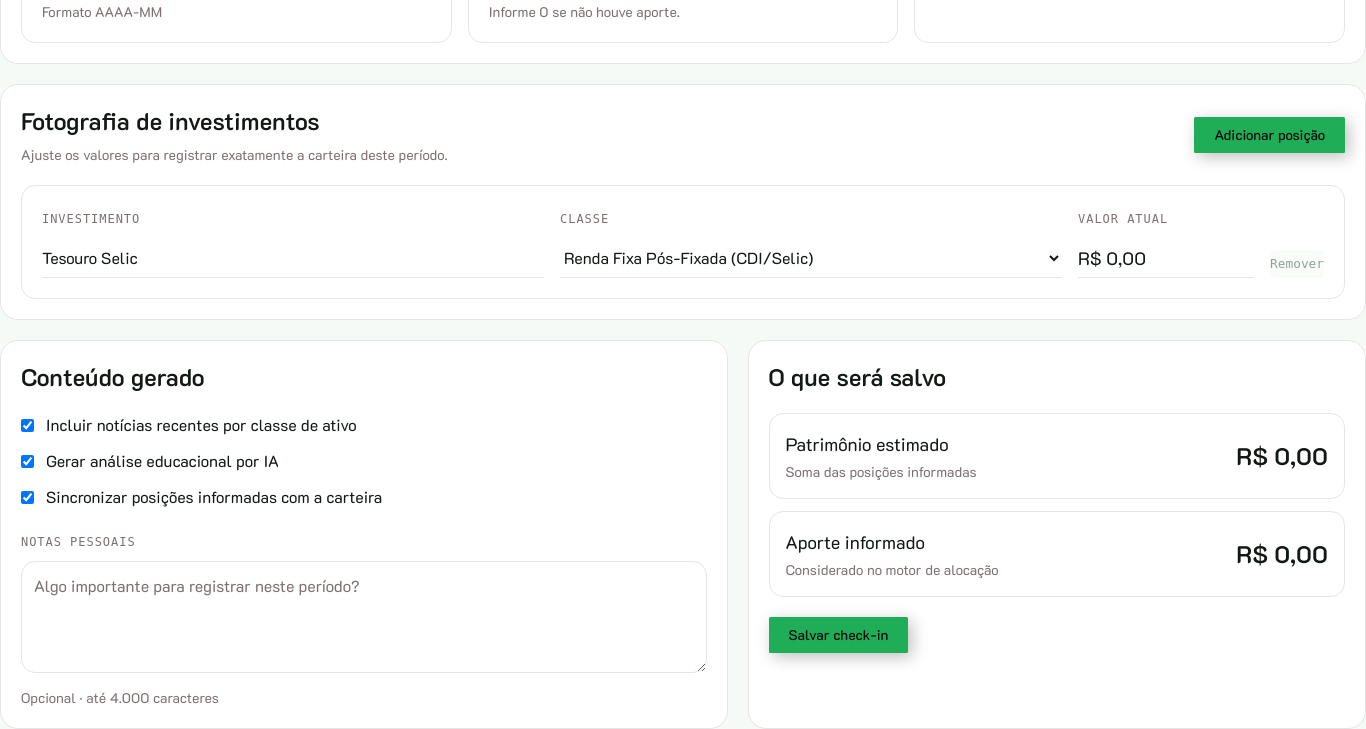
NewCheckInForm › mostra o erro que a API devolve
(page scrolled)
Click the button "Salvar check-in": (838, 635) top-left (769, 617), bottom-right (908, 653)
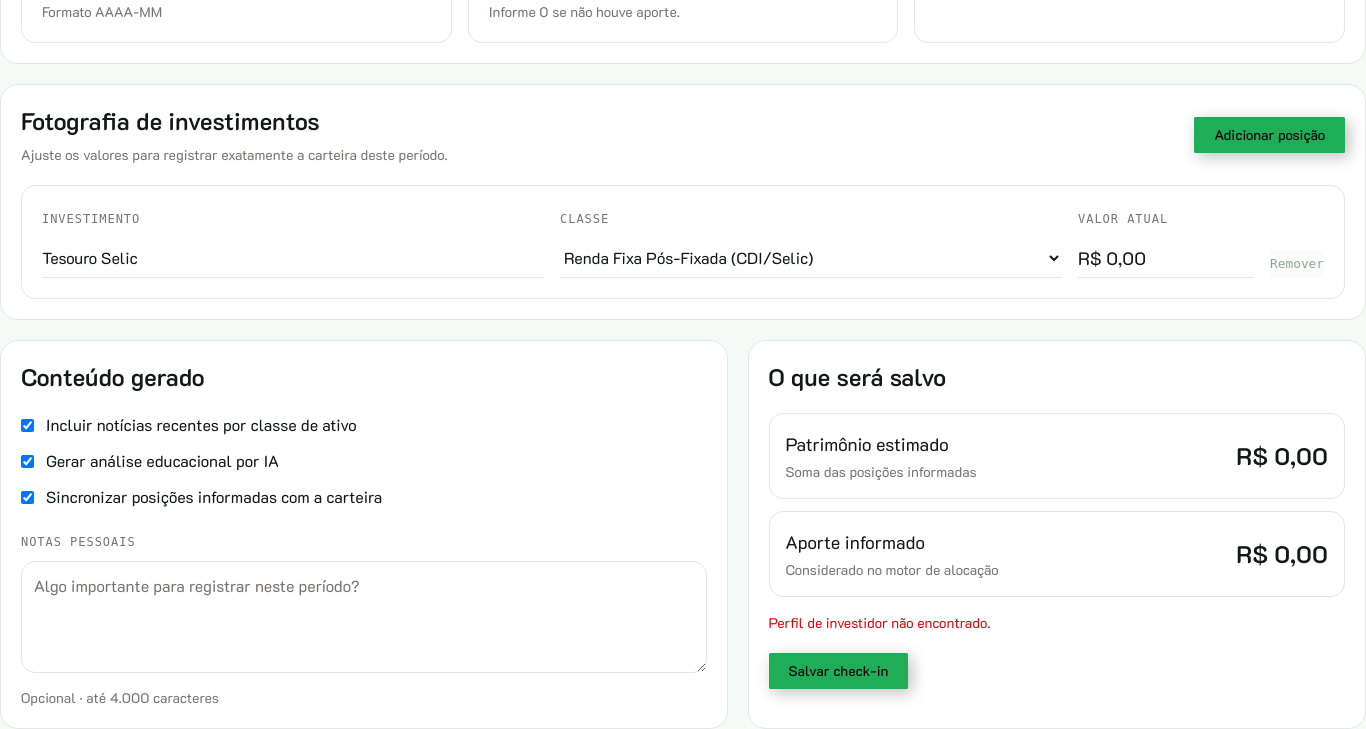
Expected: the text "Perfil de investidor não encontrado." is shown, top-left (769, 613), bottom-right (990, 632)
